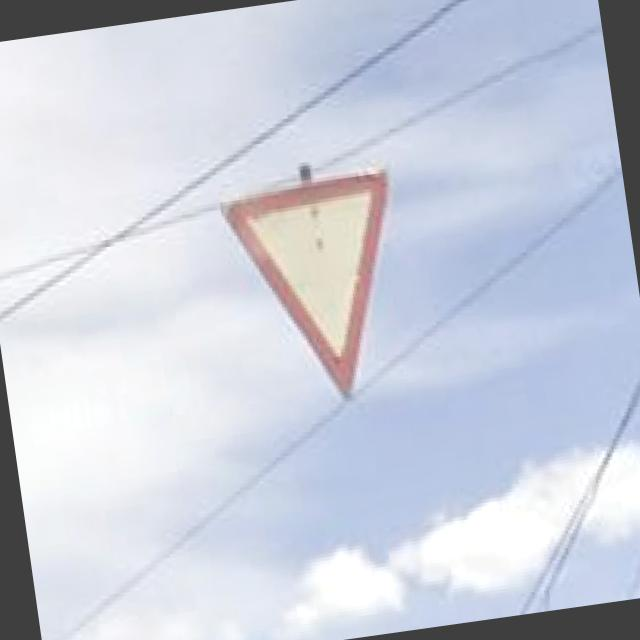Ustap pierwszenstwa: (215, 165, 418, 412)
